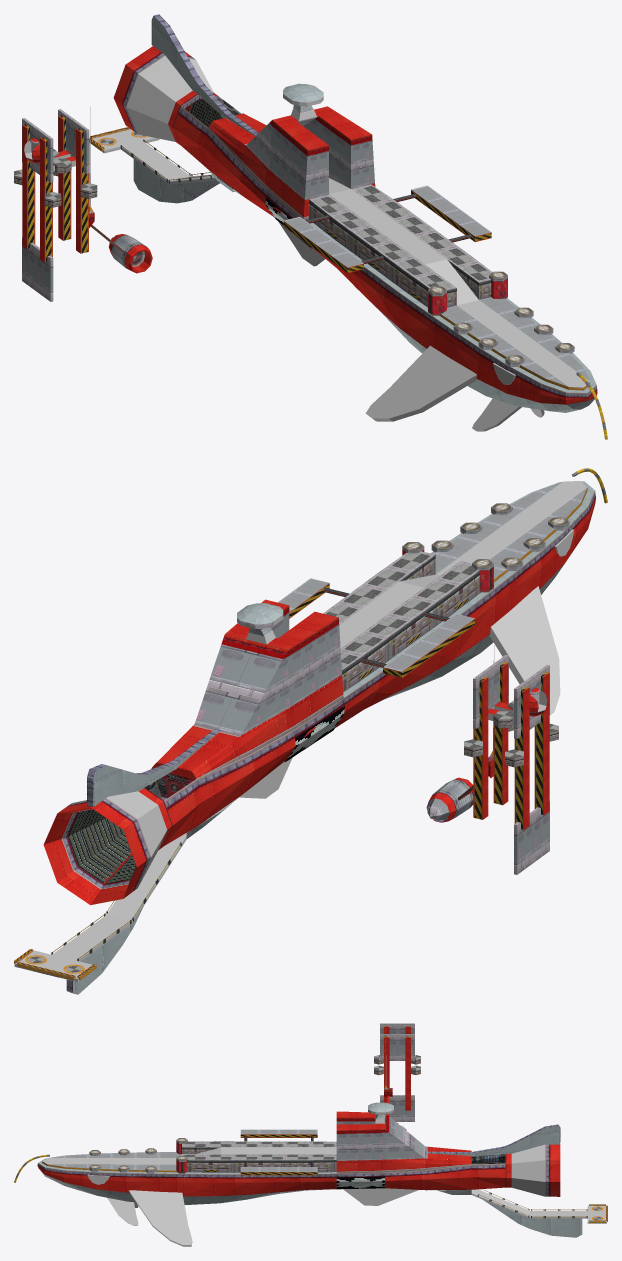
Rendered from 2PEgg_fleet8.obj.
3 renders of one model, top to bottom at view 1: azimuth 30°, elevation 25°; view 2: azimuth 150°, elevation 25°; view 3: azimuth 270°, elevation 25°, orthographic. The views are drawn at different scales.
Parts seen in each view (by area): view 1: obj1, obj2; view 2: obj1, obj2, obj3; view 3: obj1, obj2, obj3.
Boxes of the visible parts, x1,y1,x2,y2 form: obj1: (14,14,607,439); obj2: (89,127,596,421); obj1: (43,468,607,994); obj2: (14,481,594,981); obj3: (284,706,344,762); obj1: (14,1023,587,1237); obj2: (38,1129,607,1246); obj3: (336,1176,384,1189).
Bounding box in the file's own units: 1292 × 859 × 3075.
